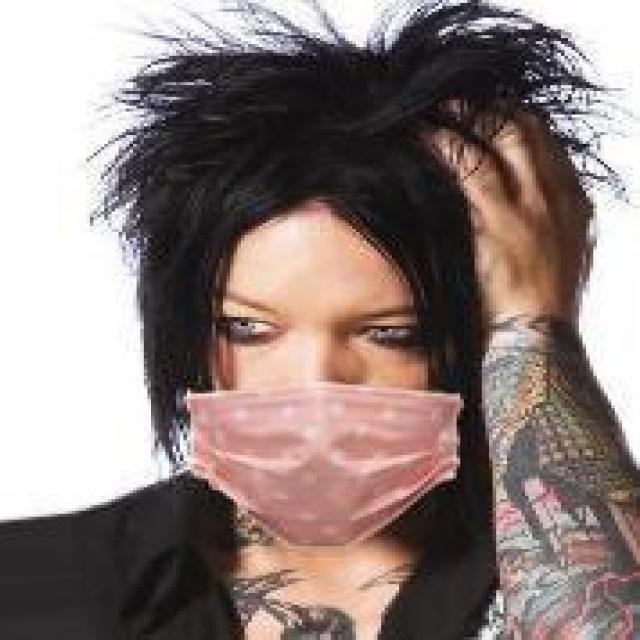mask: (68, 23, 579, 549)
